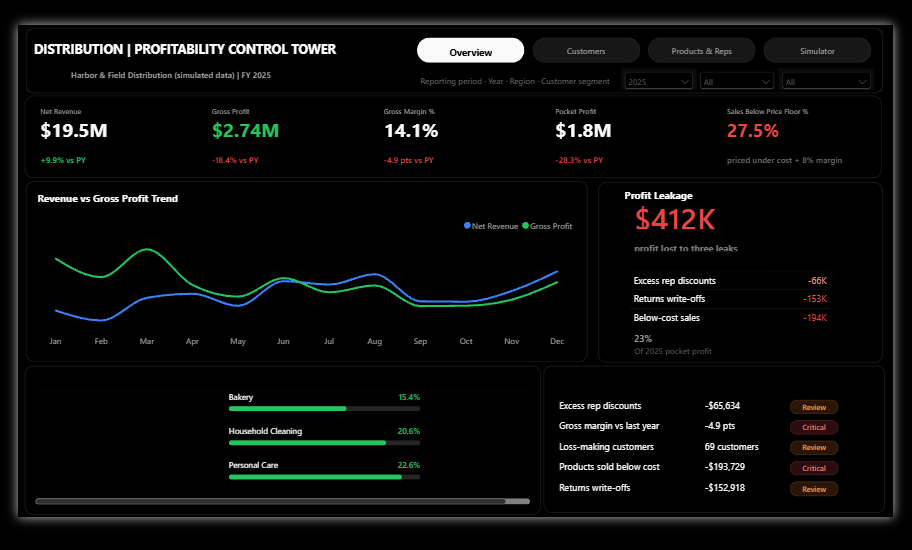

The page's visual inventory and layout, read from the dashboard file:
{"tool":"powerbi","page":{"name":"Overview","canvas":[1280,720],"ordinal":0},"visuals":[{"type":"shape","box":[12.2,4.3,1252.6,94.7],"z":0,"group":"g1"},{"type":"shape","title":"Pocket Margin by Segment","box":[10,103.3,1252.6,120.5],"z":0},{"type":"cardVisual","fields":{"Data":["_Measures.Net Revenue","_Measures.Gross Profit","_Measures.Gross Margin %","_Measures.Pocket Profit","_Measures.Sales Below Price Floor %"]},"box":[16,120,1248,98.8],"z":1000},{"type":"textbox","box":[24.3,21.5,520.8,30.1],"z":2000,"group":"g1"},{"type":"lineChart","title":"Revenue vs Gross Profit Trend","fields":{"Category":["dim_date.month_name"],"Y":["_Measures.Net Revenue"],"Y2":["_Measures.Gross Profit"]},"box":[11.5,228.1,820.7,264],"z":2000},{"type":"cardVisual","fields":{"Data":["_Measures.Report Subtitle"]},"box":[61.6,59.1,520,24],"z":3000,"group":"g1"},{"type":"shape","box":[848,229.6,416.1,264],"z":3000},{"type":"slicer","fields":{"Values":["dim_date.date.Variation.Date Hierarchy.Year"]},"box":[882.4,63.4,110.5,31.6],"z":4000,"group":"g1"},{"type":"textbox","box":[887.2,237.6,200,26],"z":4000},{"type":"pageNavigator","box":[584.7,18,667.2,37.3],"z":5000,"group":"g1"},{"type":"cardVisual","fields":{"Data":["_Measures.Profit Leakage"]},"box":[885.4,263.2,343.4,71.1],"z":5000},{"type":"slicer","fields":{"Values":["dim_customer.region"]},"box":[992.9,63.4,119.1,31.6],"z":6000,"group":"g1"},{"type":"tableEx","fields":{"Values":["Leak Items.Item","_Measures.Leak Value"]},"box":[879,317.3,325.9,144.4],"z":6000},{"type":"slicer","fields":{"Values":["dim_customer.segment"]},"box":[1112,63.4,140,32],"z":7000,"group":"g1"},{"type":"cardVisual","fields":{"Data":["_Measures.Leakage % of Pocket Profit"]},"box":[885.4,448.7,391.9,39.9],"z":7000},{"type":"textbox","box":[589.7,73.4,292.6,22.2],"z":8000,"group":"g1"},{"type":"tableEx","fields":{"Values":["dim_product.category","_Measures.SVG Category Bar","_Measures.Category Rank"]},"box":[10,498,754,218],"z":8000},{"type":"tableEx","title":"Management Attention","fields":{"Values":["Attention Items.Item","_Measures.Attention Display","_Measures.SVG Attention Pill"]},"box":[769.1,497.9,499.3,215.2],"z":9000},{"type":"group","id":"g1","title":"Group 1","box":[12.2,4.3,1252.6,94.7],"z":10000}]}

Visuals, with their boxes on the page's 1280x720 design canvas (x1, y1, x2, y2). These are canvas units, not pixel positions in the 912x550 screenshot, which may show the page scaled, cropped or inside an application window:
shape: bbox=[12, 4, 1265, 99]
"Pocket Margin by Segment" shape: bbox=[10, 103, 1263, 224]
cardVisual - _Measures.Net Revenue x _Measures.Gross Profit: bbox=[16, 120, 1264, 219]
textbox: bbox=[24, 22, 545, 52]
"Revenue vs Gross Profit Trend" lineChart: bbox=[12, 228, 832, 492]
cardVisual - _Measures.Report Subtitle: bbox=[62, 59, 582, 83]
shape: bbox=[848, 230, 1264, 494]
slicer - dim_date.date.Variation.Date Hierarchy.Year: bbox=[882, 63, 993, 95]
textbox: bbox=[887, 238, 1087, 264]
pageNavigator: bbox=[585, 18, 1252, 55]
cardVisual - _Measures.Profit Leakage: bbox=[885, 263, 1229, 334]
slicer - dim_customer.region: bbox=[993, 63, 1112, 95]
tableEx - Leak Items.Item x _Measures.Leak Value: bbox=[879, 317, 1205, 462]
slicer - dim_customer.segment: bbox=[1112, 63, 1252, 95]
cardVisual - _Measures.Leakage % of Pocket Profit: bbox=[885, 449, 1277, 489]
textbox: bbox=[590, 73, 882, 96]
tableEx - dim_product.category x _Measures.SVG Category Bar: bbox=[10, 498, 764, 716]
"Management Attention" tableEx: bbox=[769, 498, 1268, 713]
"Group 1" group: bbox=[12, 4, 1265, 99]
